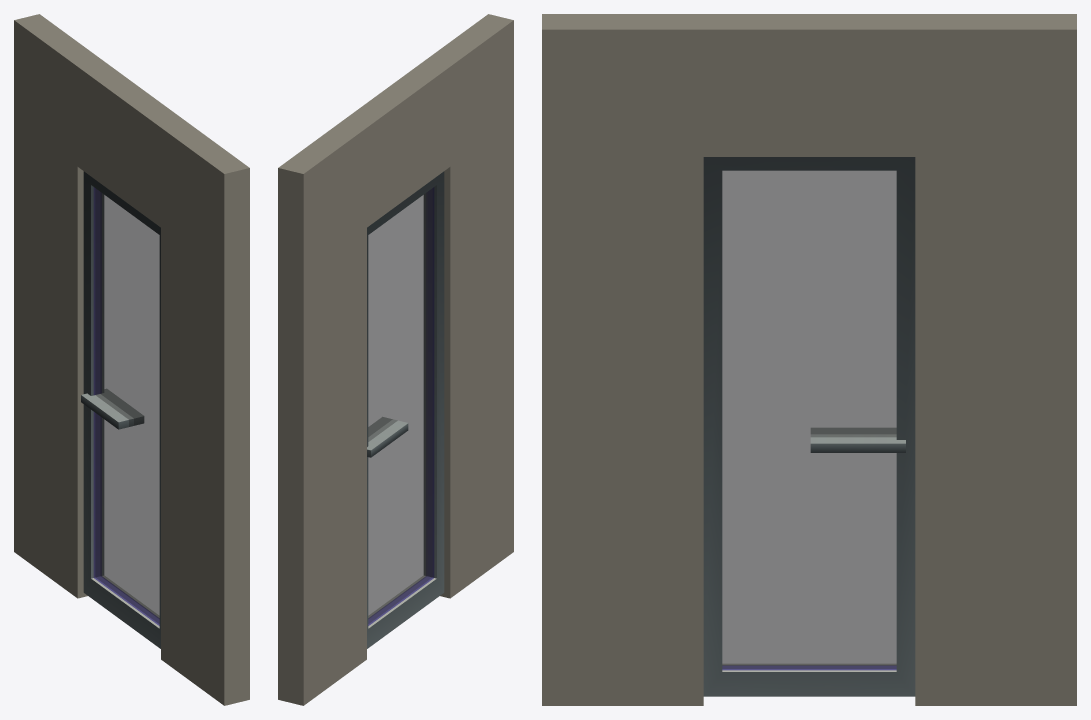
Rendered from TSP_Interior_Wall_Regular_04A.fbx.
The picture shows the model from 3 angles, left to right: view 1: azimuth 30°, elevation 25°; view 2: azimuth 150°, elevation 25°; view 3: azimuth 270°, elevation 25°; orthographic projection. The views are drawn at different scales.
Visible parts, largest first — view 1: TSP_Interior_Wall_Regular_04A, TSP_Interior_Wall_Regular_04A_Door; view 2: TSP_Interior_Wall_Regular_04A, TSP_Interior_Wall_Regular_04A_Door; view 3: TSP_Interior_Wall_Regular_04A, TSP_Interior_Wall_Regular_04A_Door.
Boxes of the visible parts, x1=… form: TSP_Interior_Wall_Regular_04A: x1=14, y1=14, x2=249, y2=705; TSP_Interior_Wall_Regular_04A_Door: x1=81, y1=171, x2=160, y2=648; TSP_Interior_Wall_Regular_04A: x1=278, y1=14, x2=513, y2=705; TSP_Interior_Wall_Regular_04A_Door: x1=367, y1=171, x2=444, y2=648; TSP_Interior_Wall_Regular_04A: x1=542, y1=14, x2=1076, y2=705; TSP_Interior_Wall_Regular_04A_Door: x1=703, y1=157, x2=915, y2=696.
Size of the model in its own units: 0.153 by 3 by 2.15.
